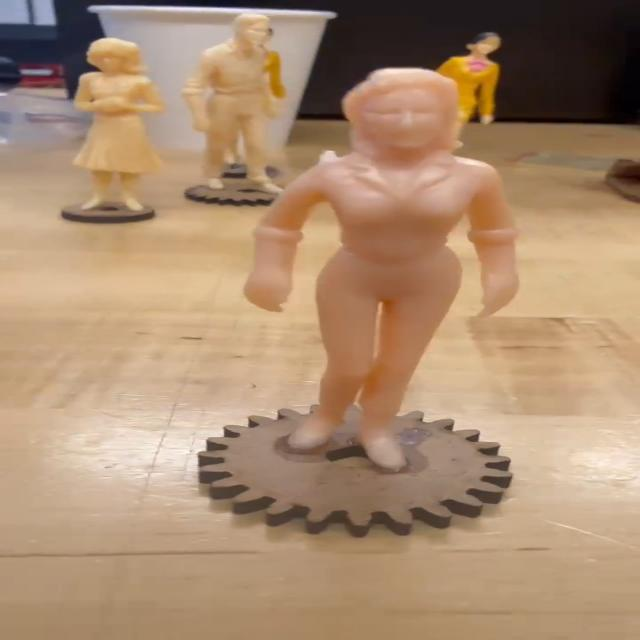Unauthorized: (242, 67, 522, 472)
